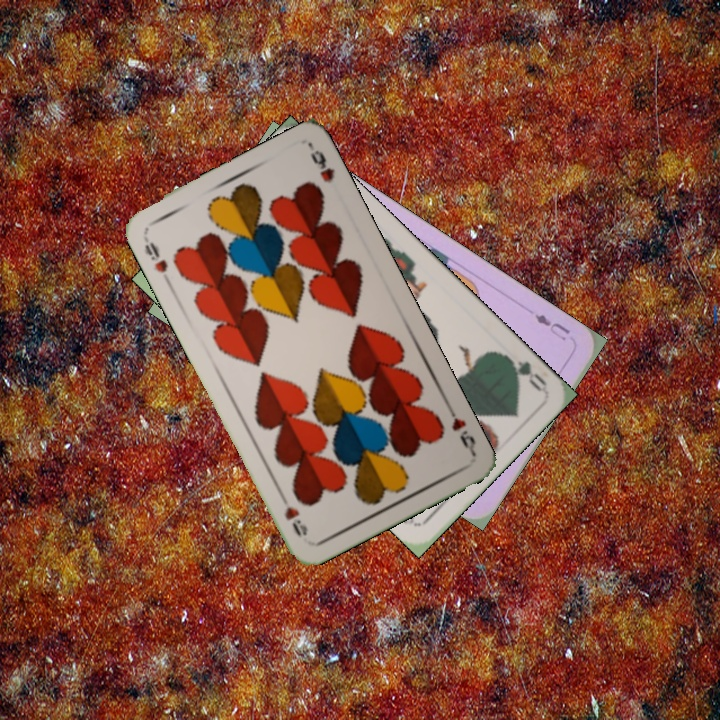EU: (530, 310, 573, 343)
GO: (498, 350, 550, 394)
H9: (443, 401, 479, 456), (139, 232, 174, 287)
